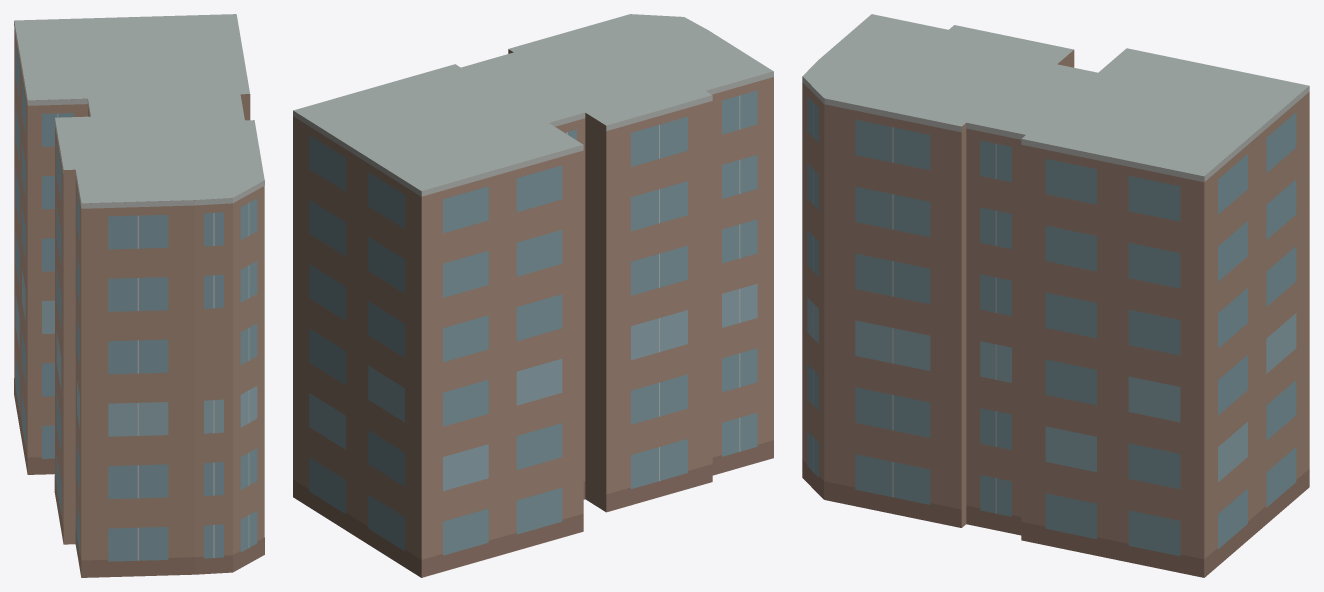
Rendered from survey-upis-32658571.glb.
The picture shows the model from 3 angles, left to right: view 1: azimuth 30°, elevation 25°; view 2: azimuth 150°, elevation 25°; view 3: azimuth 270°, elevation 25°; orthographic projection. The views are drawn at different scales.
Visible parts, largest first — view 1: survey-upis-32658571.tmp; view 2: survey-upis-32658571.tmp; view 3: survey-upis-32658571.tmp.
Part boxes in pixels (x1,y1,x2,y2): survey-upis-32658571.tmp: (14,14,264,577); survey-upis-32658571.tmp: (293,14,773,577); survey-upis-32658571.tmp: (802,14,1309,577).
Size of the model in its own units: 14.58 by 16.8 by 19.24.
